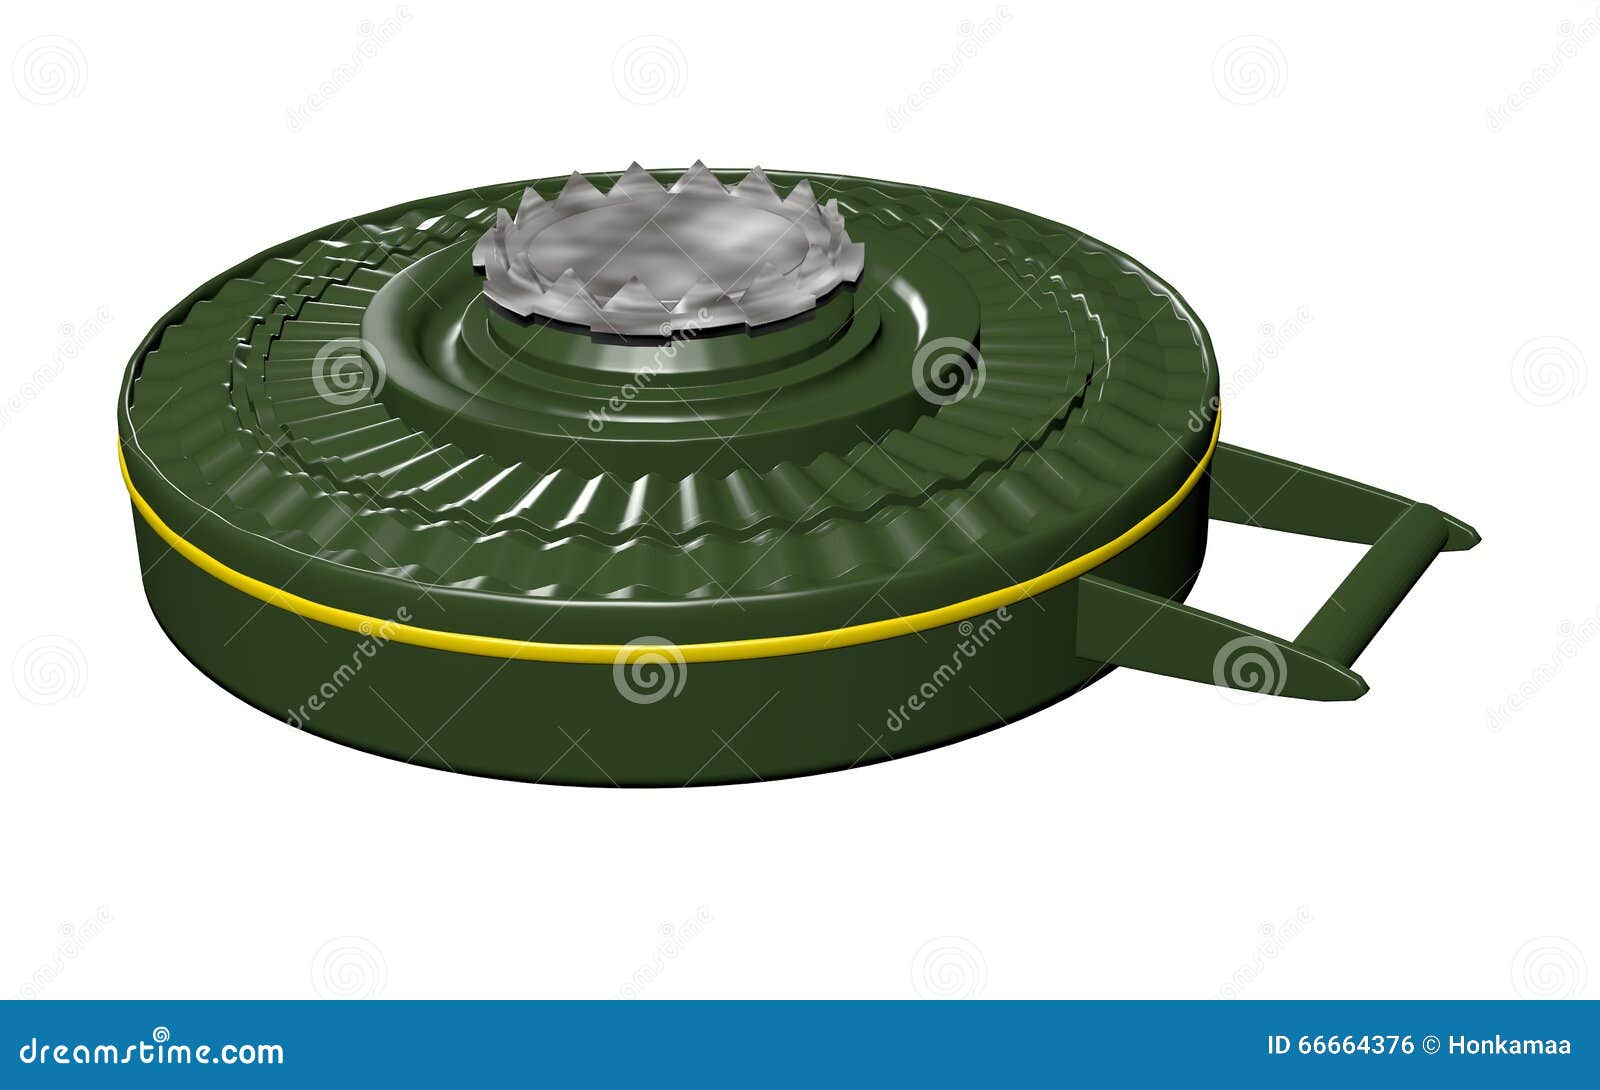car: (101, 69, 1516, 877)
